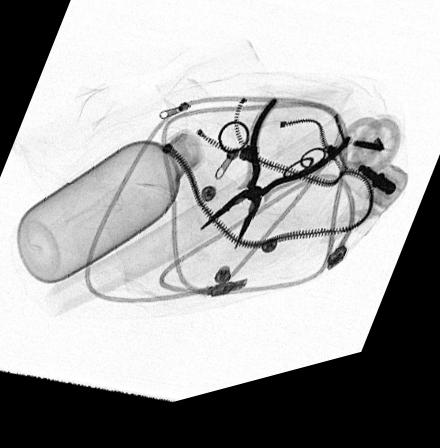Pliers: (194, 110, 351, 267)
